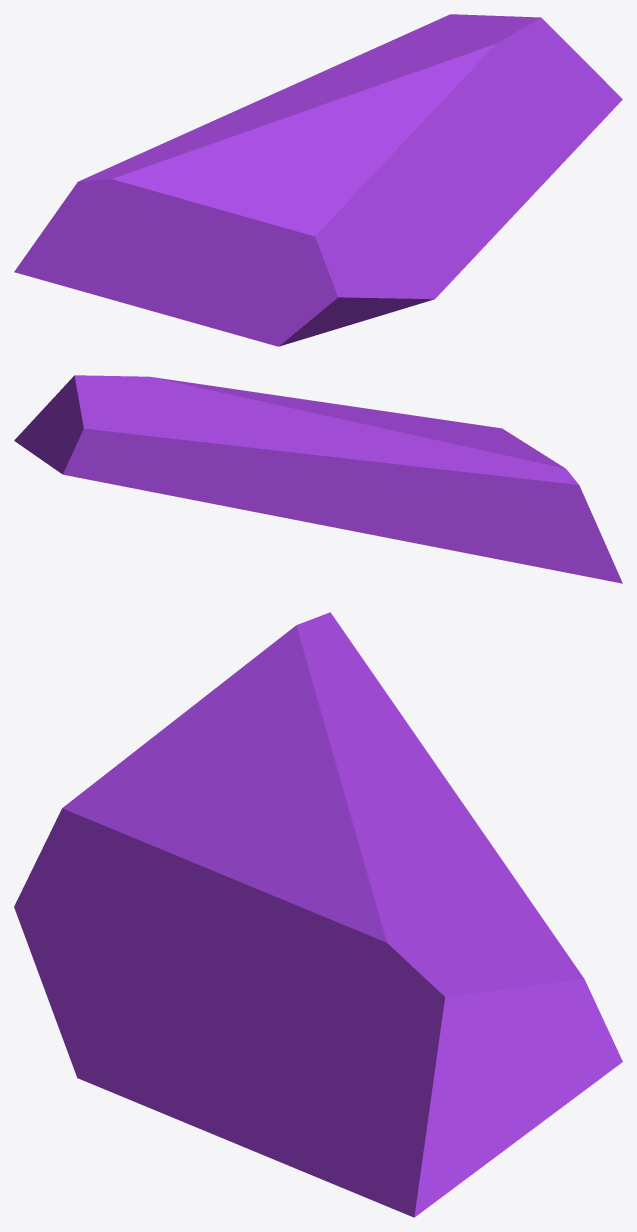
The model's file is Window_163_6_chunks.fbx.
3 views of the same model, one above another, from view 1: azimuth 30°, elevation 25°; view 2: azimuth 150°, elevation 25°; view 3: azimuth 270°, elevation 25° (orthographic). The views are drawn at different scales.
Parts seen in each view (by area): view 1: Window_163_6_0, Window_163_6_1, Window_163_6_2, Window_163_6_3; view 2: Window_163_6_0, Window_163_6_1, Window_163_6_3; view 3: Window_163_6_1, Window_163_6_0, Window_163_6_2, Window_163_6_3.
Part boxes in pixels (box(x1,y1,x2,y2)): Window_163_6_0: box(14, 94, 323, 339); Window_163_6_1: box(274, 14, 622, 195); Window_163_6_2: box(255, 167, 531, 346); Window_163_6_3: box(316, 94, 469, 247); Window_163_6_0: box(317, 419, 622, 583); Window_163_6_1: box(14, 375, 330, 523); Window_163_6_3: box(243, 390, 495, 427); Window_163_6_1: box(239, 803, 622, 1217); Window_163_6_0: box(49, 612, 463, 833); Window_163_6_2: box(14, 834, 251, 1150); Window_163_6_3: box(55, 794, 364, 1014).
Size of the model in its own units: 662 by 158 by 325.
